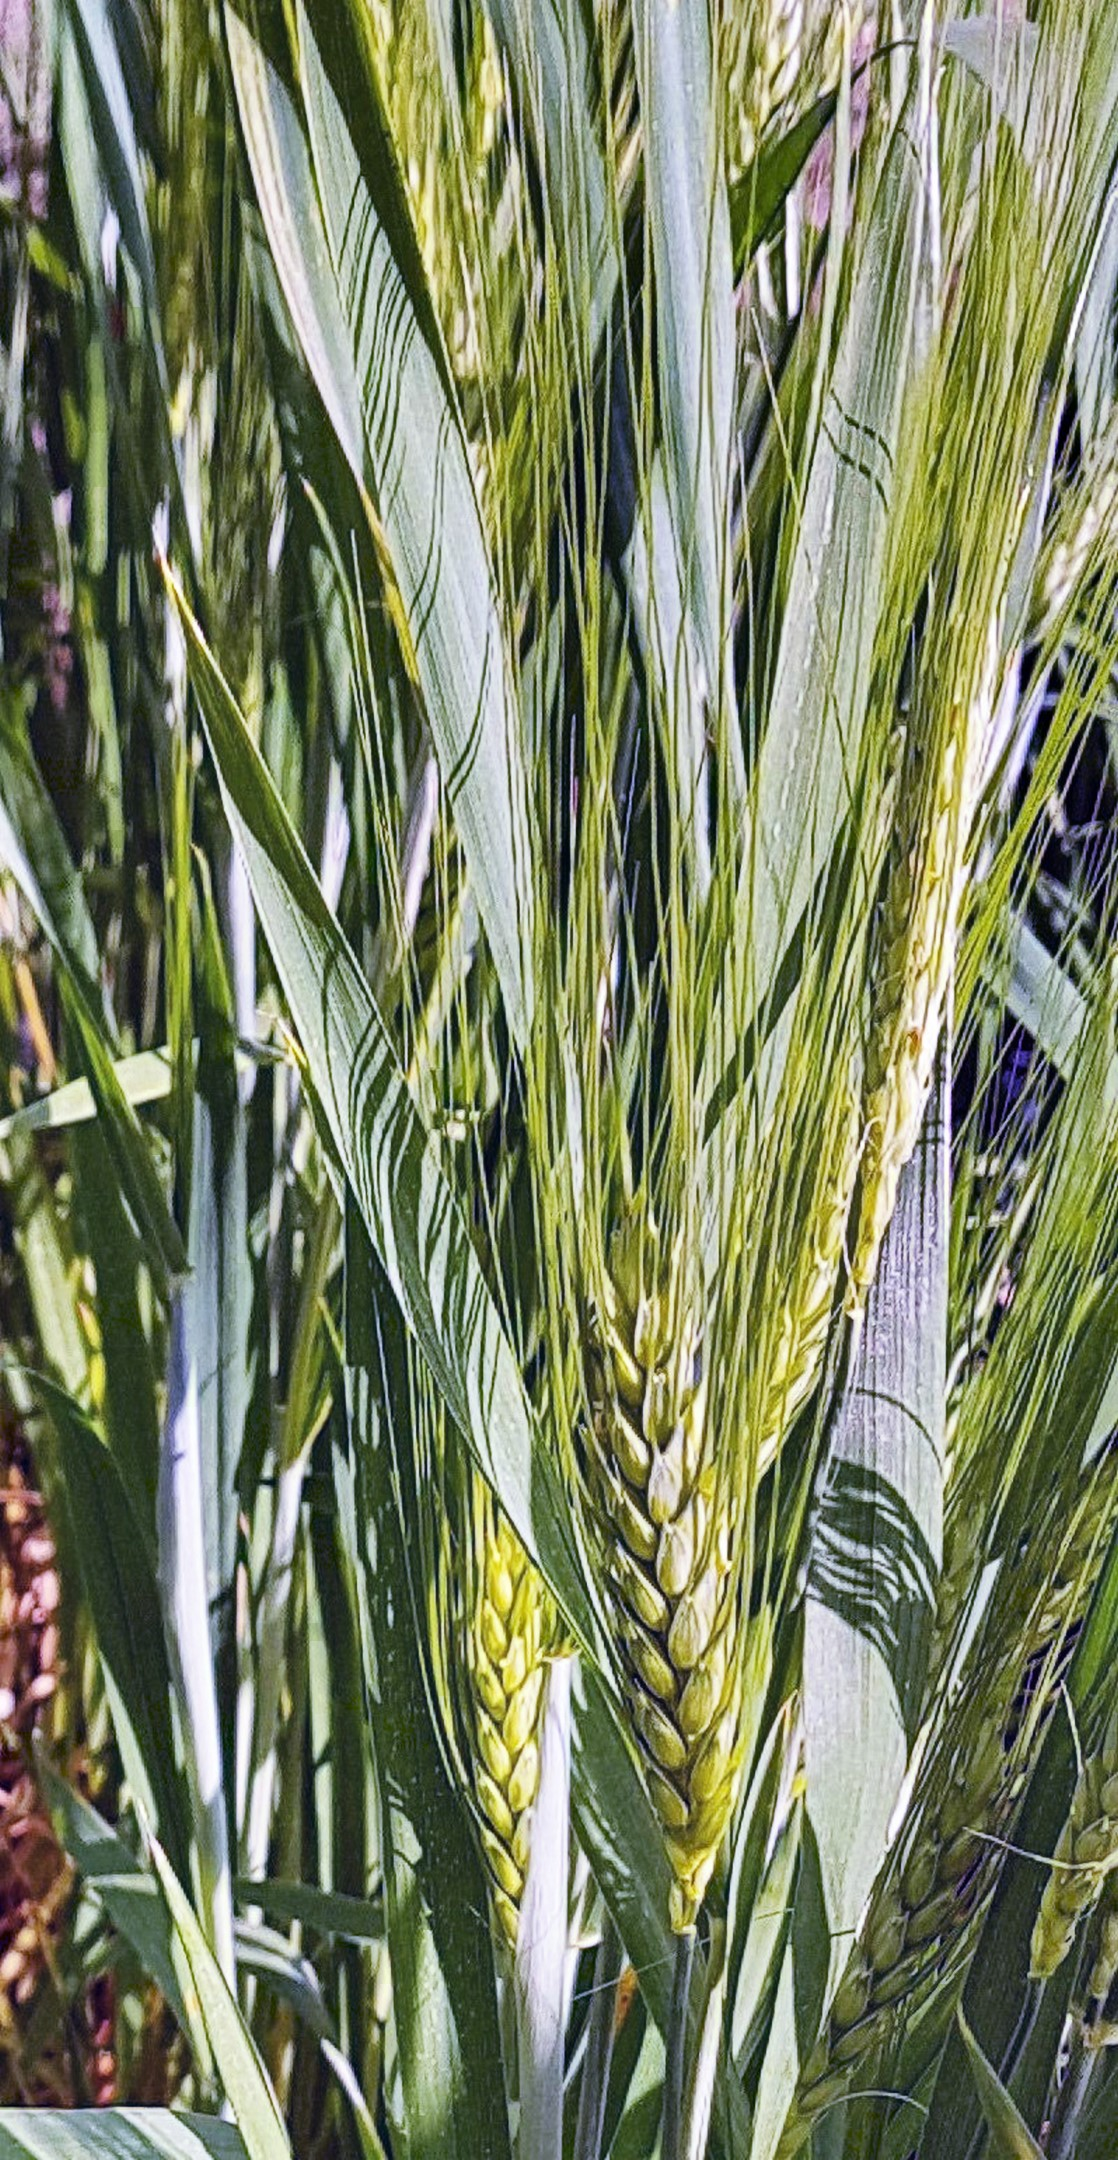Healthy Wheat: (572, 1282, 793, 1882)
